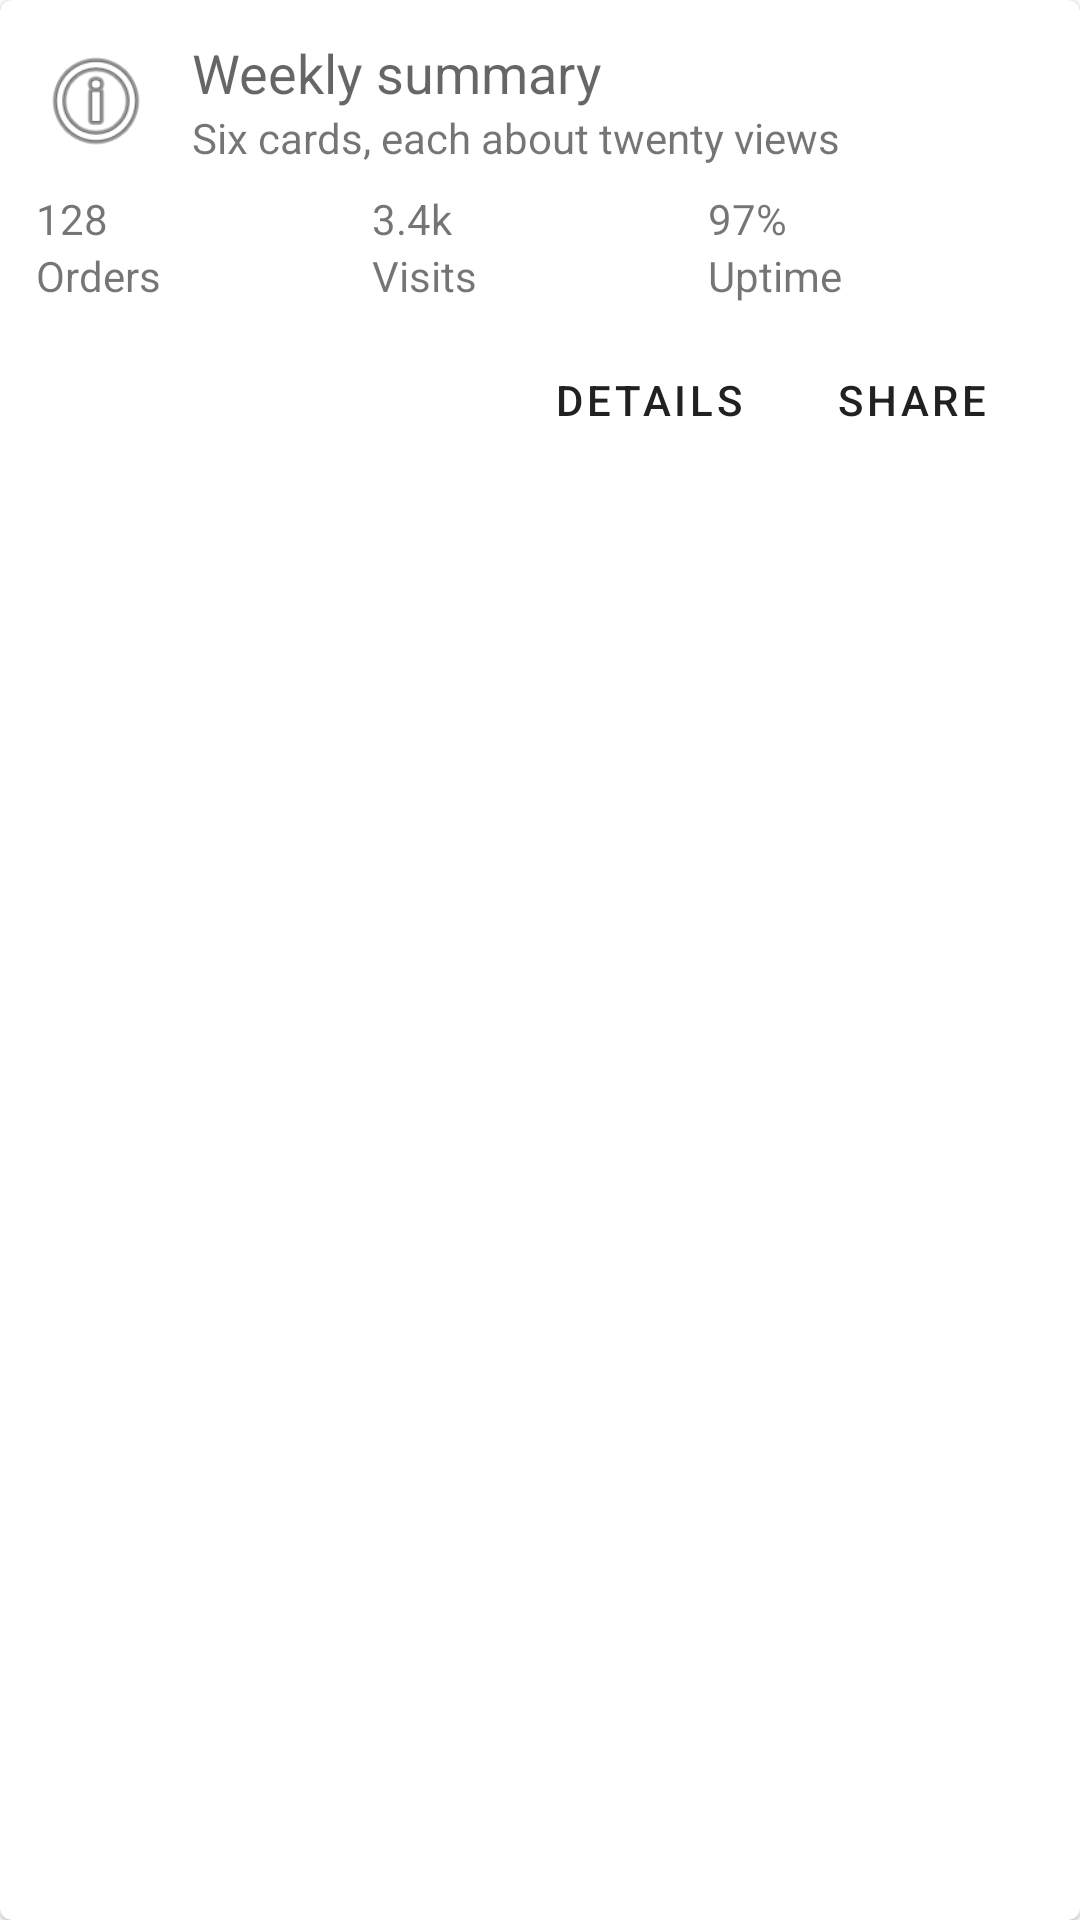

Point at icon controls on the screen. Image size 1080×1920, points as (x,y).
info details: (96,101)
